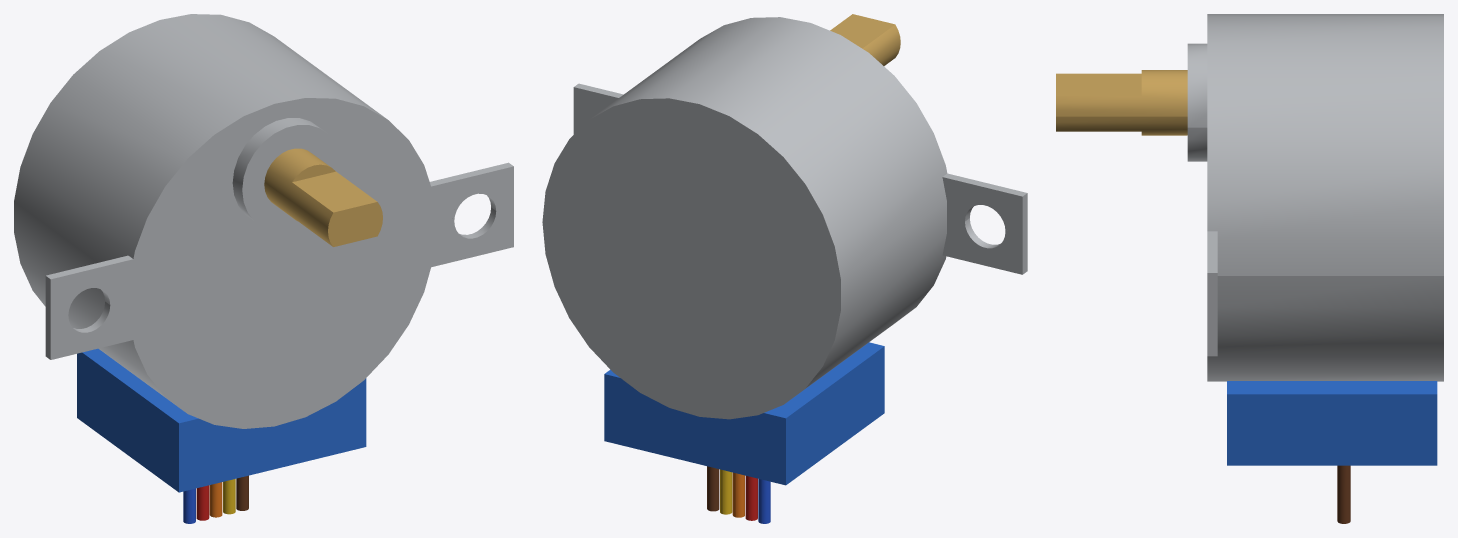
Rendered from stepper-28byj48.glb.
The picture shows the model from 3 angles, left to right: view 1: azimuth 30°, elevation 25°; view 2: azimuth 150°, elevation 25°; view 3: azimuth 270°, elevation 25°; orthographic projection. The views are drawn at different scales.
Parts seen in each view (by area): view 1: body, ears, cap, shaft, boss, mount_hole_2, mount_hole_1; view 2: body, cap, ears, shaft, mount_hole_1, lead_5, lead_2, lead_3, lead_4, lead_1; view 3: body, cap, shaft, boss, ears, lead_5.
Part boxes in pixels (x1=…): body: x1=14, y1=14, x2=435, y2=428; ears: x1=45, y1=162, x2=513, y2=359; cap: x1=77, y1=348, x2=366, y2=492; shaft: x1=264, y1=148, x2=382, y2=246; boss: x1=232, y1=118, x2=341, y2=230; mount_hole_2: x1=452, y1=191, x2=498, y2=240; mount_hole_1: x1=66, y1=285, x2=112, y2=334; body: x1=542, y1=17, x2=947, y2=419; cap: x1=604, y1=342, x2=884, y2=485; ears: x1=573, y1=83, x2=1027, y2=274; shaft: x1=830, y1=14, x2=900, y2=65; mount_hole_1: x1=962, y1=202, x2=1007, y2=250; lead_5: x1=707, y1=466, x2=719, y2=511; lead_2: x1=745, y1=476, x2=757, y2=520; lead_3: x1=732, y1=472, x2=744, y2=517; lead_4: x1=720, y1=469, x2=732, y2=514; lead_1: x1=758, y1=479, x2=770, y2=523; body: x1=1207, y1=14, x2=1443, y2=381; cap: x1=1227, y1=381, x2=1437, y2=465; shaft: x1=1056, y1=70, x2=1187, y2=135; boss: x1=1187, y1=43, x2=1207, y2=161; ears: x1=1207, y1=231, x2=1217, y2=356; lead_5: x1=1337, y1=465, x2=1350, y2=523.
Bounding box in the file's own units: 42 × 39.98 × 29.5.
